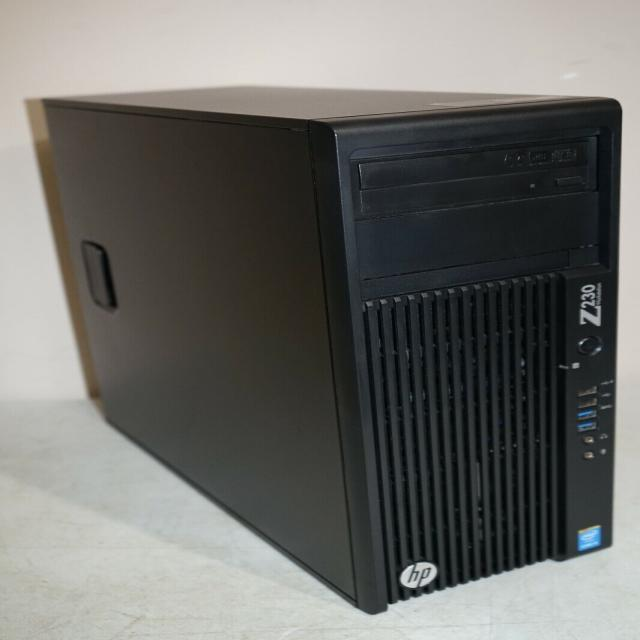Desktop-PC: (22, 45, 640, 630)
